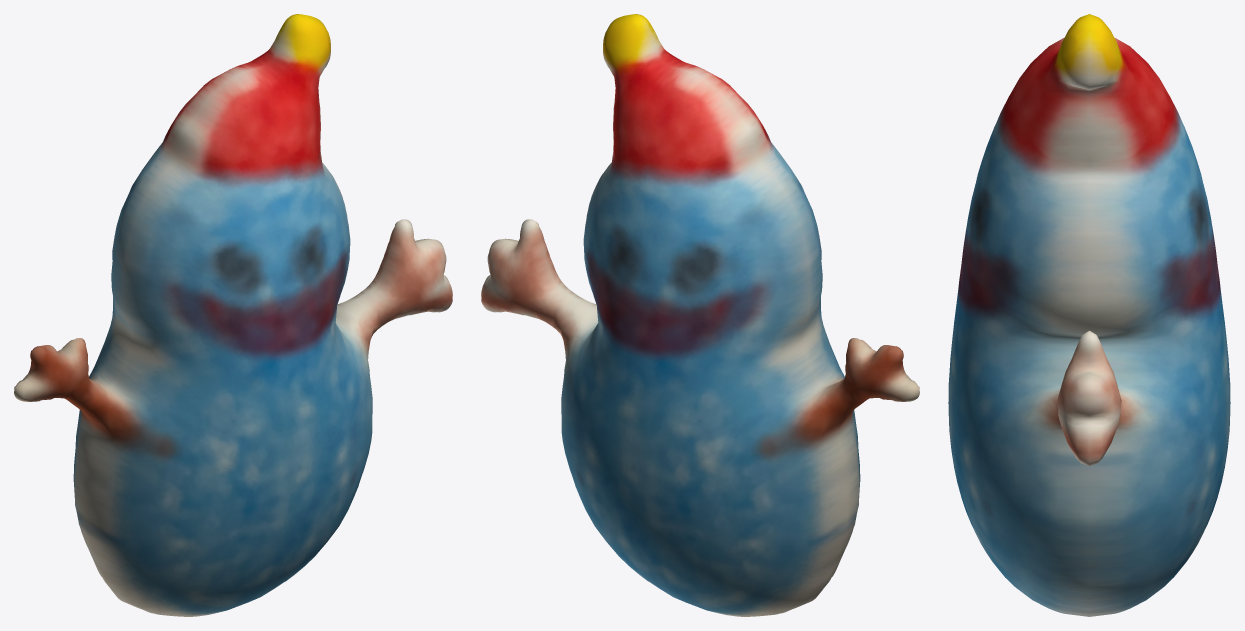
3 views of the same model, side by side, from view 1: azimuth 30°, elevation 25°; view 2: azimuth 150°, elevation 25°; view 3: azimuth 270°, elevation 25° (orthographic). The views are drawn at different scales.
Size of the model in its own units: 3.9 by 4.85 by 1.94.
1 material, 1 textured.
